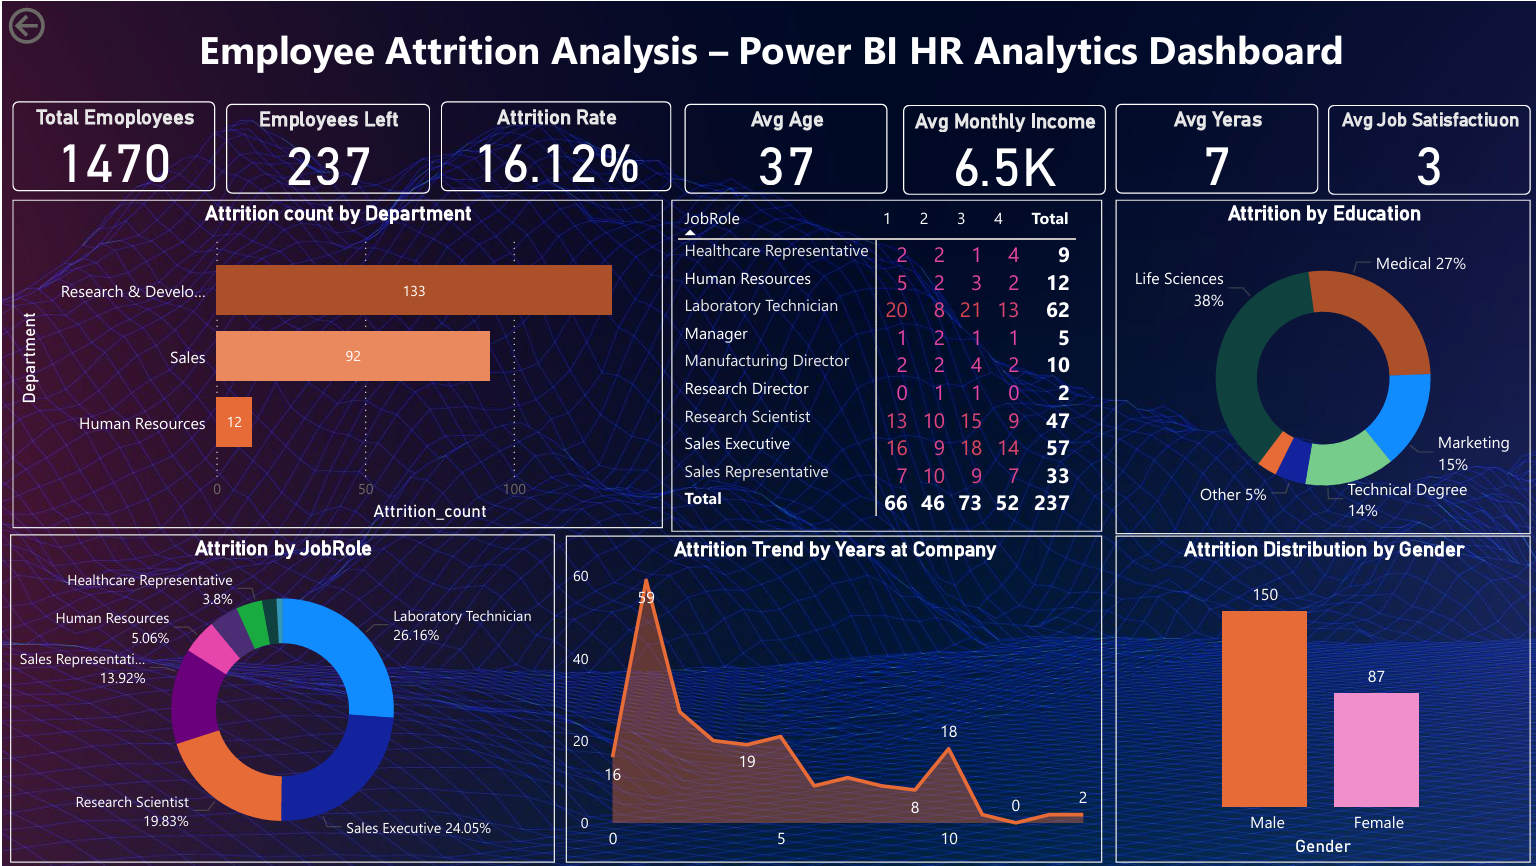

The page's visual inventory and layout, read from the dashboard file:
{"tool":"powerbi","page":{"name":"Page 1","canvas":[1280,720],"ordinal":0},"visuals":[{"type":"card","title":"Total Emoployees","fields":{"Values":["Count(HR-Analytics.EmployeeNumber)"]},"box":[7.6,83.3,169.6,75],"z":0},{"type":"card","title":"Employees Left","fields":{"Values":["Sum(HR-Analytics.Attrition_count)"]},"box":[186.2,84.8,169.6,75],"z":1000},{"type":"card","title":"Attrition Rate","fields":{"Values":["HR-Analytics.AttritionRate"]},"box":[364.9,83.3,192.3,75],"z":2000},{"type":"card","title":"Avg Age","fields":{"Values":["Avg(HR-Analytics.Age)"]},"box":[567.8,84.8,169.6,75],"z":3000},{"type":"card","title":"Avg Monthly Income","fields":{"Values":["Avg(HR-Analytics.MonthlyIncome)"]},"box":[749.5,86.3,169.6,75],"z":4000},{"type":"card","title":"Avg Yeras","fields":{"Values":["Avg(HR-Analytics.YearsAtCompany)"]},"box":[926.7,84.8,169.6,75],"z":5000},{"type":"card","title":"Avg Job Satisfactiuon","fields":{"Values":["Avg(HR-Analytics.JobSatisfaction)"]},"box":[1103.9,86.3,169.6,75],"z":6000},{"type":"actionButton","box":[0,0,100,40],"z":7000},{"type":"donutChart","title":" Attrition by Education","fields":{"Category":["HR-Analytics.EducationField"],"Y":["Sum(HR-Analytics.Attrition_count)"]},"box":[926.7,165,346.8,278.6],"z":8000},{"type":"columnChart","title":" Attrition Distribution by Gender","fields":{"Category":["HR-Analytics.Gender"],"Y":["Sum(HR-Analytics.Attrition_count)"]},"box":[926.7,445.2,346.8,272.6],"z":9000},{"type":"pivotTable","title":" Attrition Distribution by Gender","fields":{"Values":["Sum(HR-Analytics.Attrition_count)"],"Rows":["HR-Analytics.JobRole"],"Columns":["HR-Analytics.JobSatisfaction"]},"box":[557.2,165,358.9,277.1],"z":10000},{"type":"clusteredBarChart","title":"Attrition count by Department","fields":{"Y":["Sum(HR-Analytics.Attrition_count)"],"Category":["HR-Analytics.Department"]},"box":[7.6,165,542.1,274.1],"z":11000},{"type":"donutChart","title":"Attrition by JobRole","fields":{"Category":["HR-Analytics.JobRole"],"Y":["Sum(HR-Analytics.Attrition_count)"]},"box":[5.8,444.4,454.4,273.2],"z":12000},{"type":"areaChart","title":"Attrition Trend by Years at Company","fields":{"Category":["HR-Analytics.YearsAtCompany"],"Y":["Sum(HR-Analytics.Attrition_count)"]},"box":[469.4,445.2,446.7,272.6],"z":13000},{"type":"textbox","box":[148.4,12.1,984.2,53],"z":14000}]}

Visuals, with their boxes in screenshot pixels (x1, y1, x2, y2), scaled from the page's 1280x720 canvas onto the 1536x866 screenshot:
"Total Emoployees" card: Rect(9, 100, 213, 190)
"Employees Left" card: Rect(223, 102, 427, 192)
"Attrition Rate" card: Rect(438, 100, 669, 190)
"Avg Age" card: Rect(681, 102, 885, 192)
"Avg Monthly Income" card: Rect(899, 104, 1103, 194)
"Avg Yeras" card: Rect(1112, 102, 1316, 192)
"Avg Job Satisfactiuon" card: Rect(1325, 104, 1528, 194)
actionButton: Rect(0, 0, 120, 48)
" Attrition by Education" donutChart: Rect(1112, 198, 1528, 534)
" Attrition Distribution by Gender" columnChart: Rect(1112, 535, 1528, 863)
" Attrition Distribution by Gender" pivotTable: Rect(669, 198, 1099, 532)
"Attrition count by Department" clusteredBarChart: Rect(9, 198, 660, 528)
"Attrition by JobRole" donutChart: Rect(7, 535, 552, 863)
"Attrition Trend by Years at Company" areaChart: Rect(563, 535, 1099, 863)
textbox: Rect(178, 15, 1359, 78)
